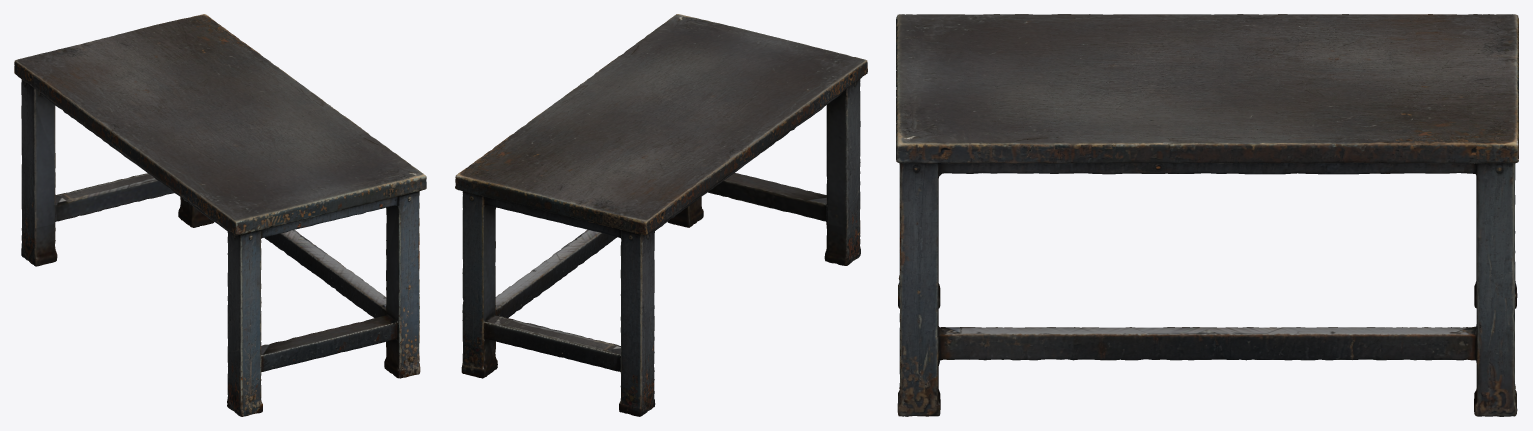
File: BlueShelf.glb
The picture shows the model from 3 angles, left to right: view 1: azimuth 30°, elevation 25°; view 2: azimuth 150°, elevation 25°; view 3: azimuth 270°, elevation 25°; orthographic projection. The views are drawn at different scales.
Parts seen in each view (by area): view 1: texture_mapping; view 2: texture_mapping; view 3: texture_mapping.
Boxes of the visible parts, x1,y1,x2,y2 form: texture_mapping: [14, 14, 426, 416]; texture_mapping: [455, 14, 867, 416]; texture_mapping: [896, 14, 1518, 416].
Size of the model in its own units: 0.4962 by 0.4918 by 0.9964.
1 material, 1 textured.
